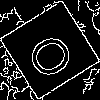O: (24, 25, 84, 83)
